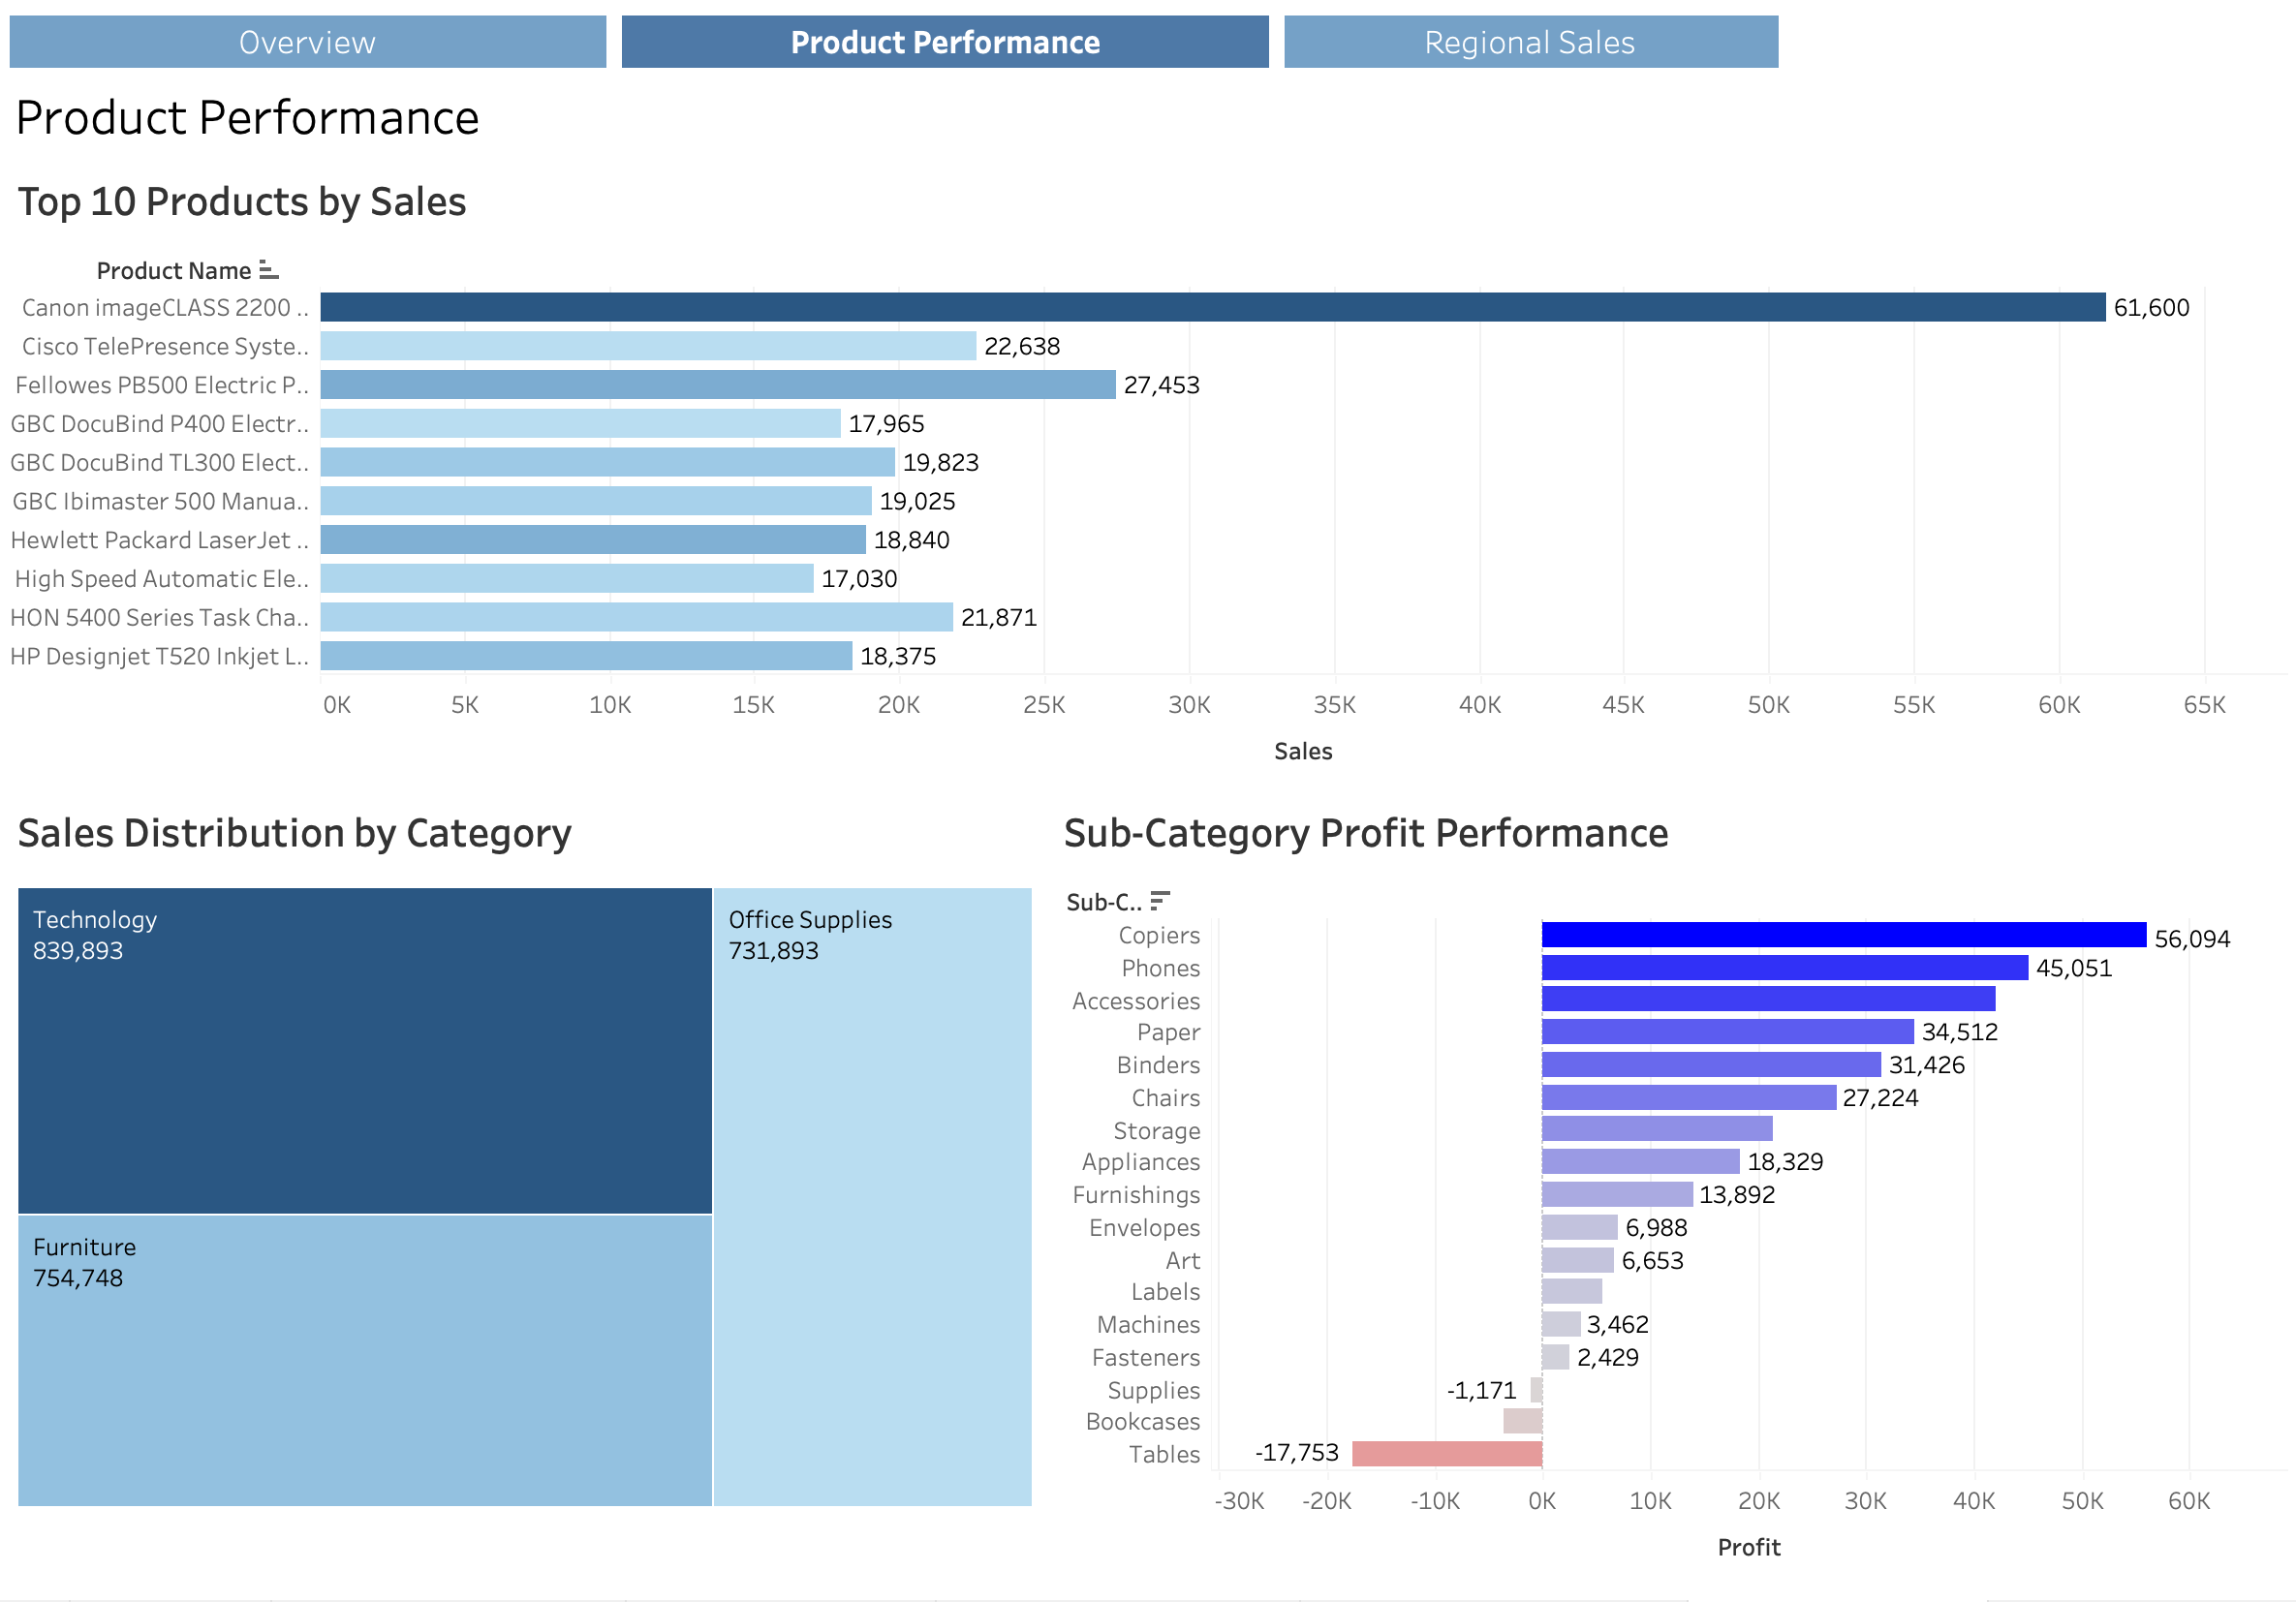

What the dashboard file says about the page in this screenshot:
{"tool":"tableau","page":{"name":"Product Performance","canvas":[1000,1000],"units":"permille","ordinal":0},"visuals":[{"type":"dashboard-object","box":[6.7,10.4,263.3,41.6]},{"type":"dashboard-object","box":[270,10.4,284.8,41.6]},{"type":"dashboard-object","box":[554.8,10.4,219.3,41.6]},{"type":"text","box":[6.7,52,986.7,54.6]},{"type":"worksheet","title":"Top 10 Products by Sales","mark":"Automatic","rows":["Product Name"],"cols":["Sales"],"box":[6.7,106.6,986.7,423.9]},{"type":"worksheet","title":"Sales Distribution by Category","mark":"Automatic","box":[6.7,530.5,450,458.9]},{"type":"worksheet","title":"Sub-Category Profit Performance","mark":"Automatic","rows":["Sub-Category"],"cols":["Profit"],"box":[456.7,530.5,536.7,458.9]}]}

Visuals, with their boxes on the dashboard's canvas, which has no fixed pixel size, in thousandths of its width and height (x1, y1, x2, y2). These are canvas units, not pixel positions in the 2296x1602 screenshot, which may show the page scaled, cropped or inside an application window:
dashboard-object: 7/10/270/52
dashboard-object: 270/10/555/52
dashboard-object: 555/10/774/52
text: 7/52/993/107
"Top 10 Products by Sales" worksheet: 7/107/993/530
"Sales Distribution by Category" worksheet: 7/530/457/989
"Sub-Category Profit Performance" worksheet: 457/530/993/989
